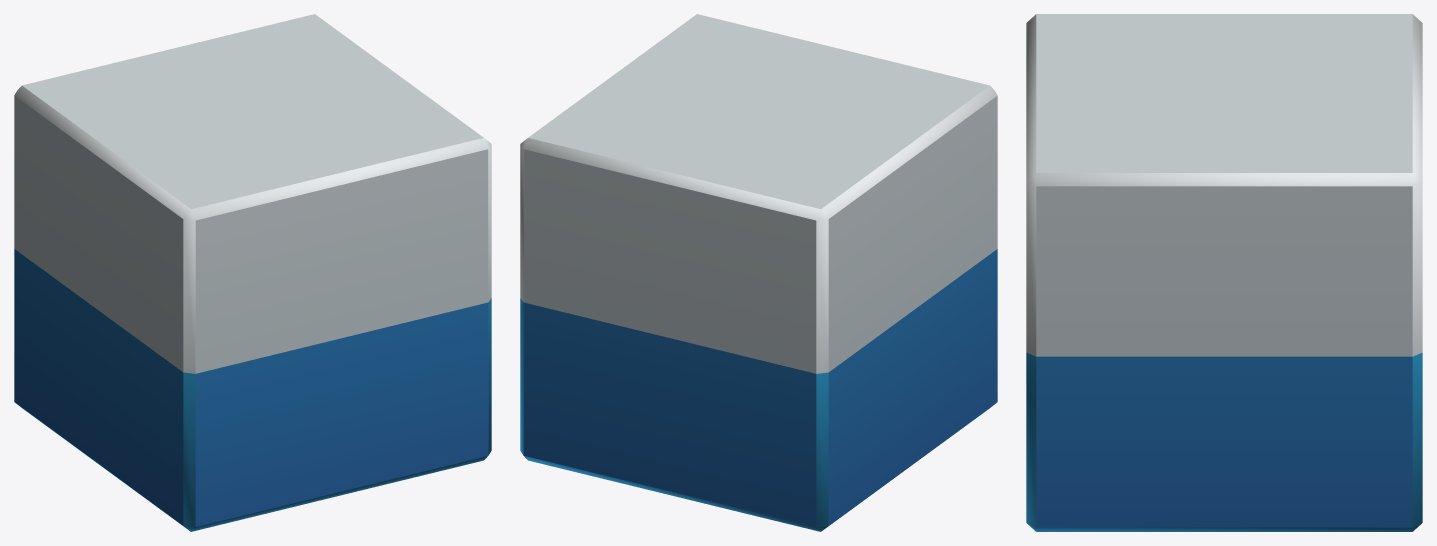
Rendered from Primitive_Cube_Small_Color.fbx.
The picture shows the model from 3 angles, left to right: view 1: azimuth 30°, elevation 25°; view 2: azimuth 150°, elevation 25°; view 3: azimuth 270°, elevation 25°; orthographic projection. The views are drawn at different scales.
Visible parts, largest first — view 1: Primitive_Cube_Small_Color; view 2: Primitive_Cube_Small_Color; view 3: Primitive_Cube_Small_Color.
Part boxes in pixels (bbox=[...]): Primitive_Cube_Small_Color: bbox=[14, 14, 491, 531]; Primitive_Cube_Small_Color: bbox=[520, 14, 997, 531]; Primitive_Cube_Small_Color: bbox=[1026, 14, 1422, 531].
Size of the model in its own units: 2 by 2 by 2.
